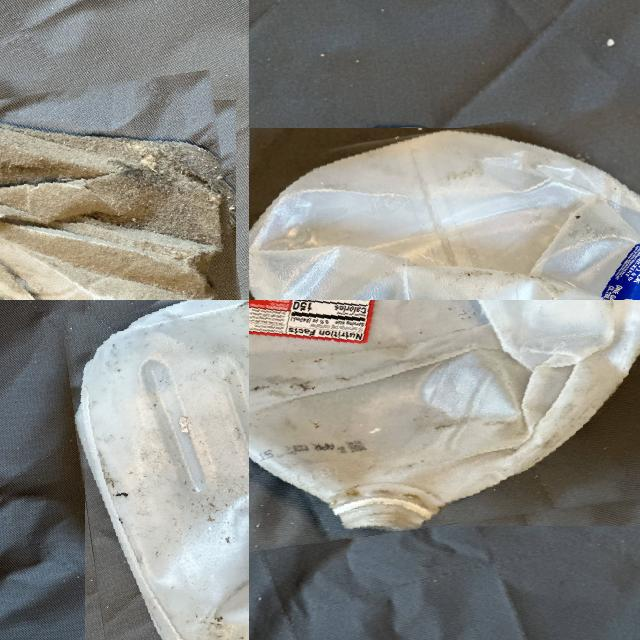milk-jug: (249, 300, 640, 542), (249, 112, 640, 300), (71, 300, 249, 640), (0, 84, 246, 300)
